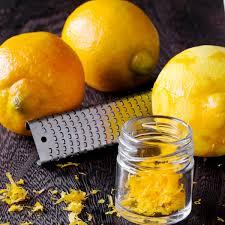lemon: (0, 30, 86, 135), (62, 0, 160, 91), (151, 44, 225, 156)
